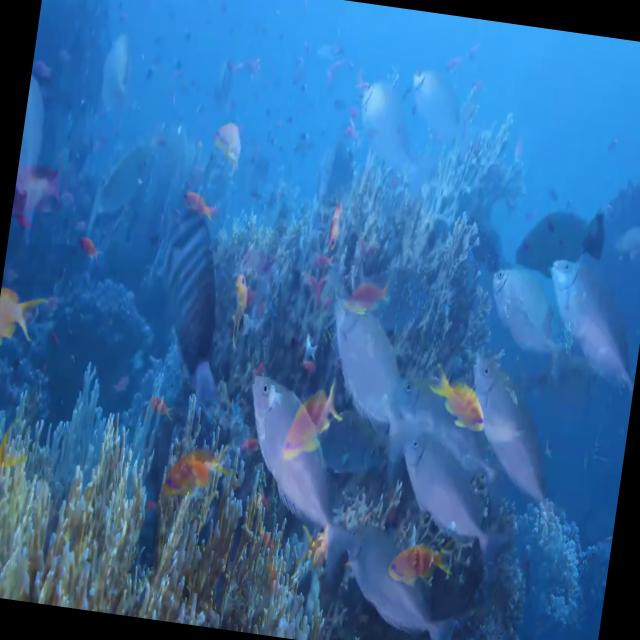fish: (226, 369, 376, 583), (308, 287, 436, 471), (450, 352, 580, 530), (384, 432, 510, 560), (334, 519, 462, 640), (535, 255, 640, 392), (476, 263, 580, 390), (284, 374, 346, 469), (387, 532, 455, 590), (429, 371, 490, 435)
